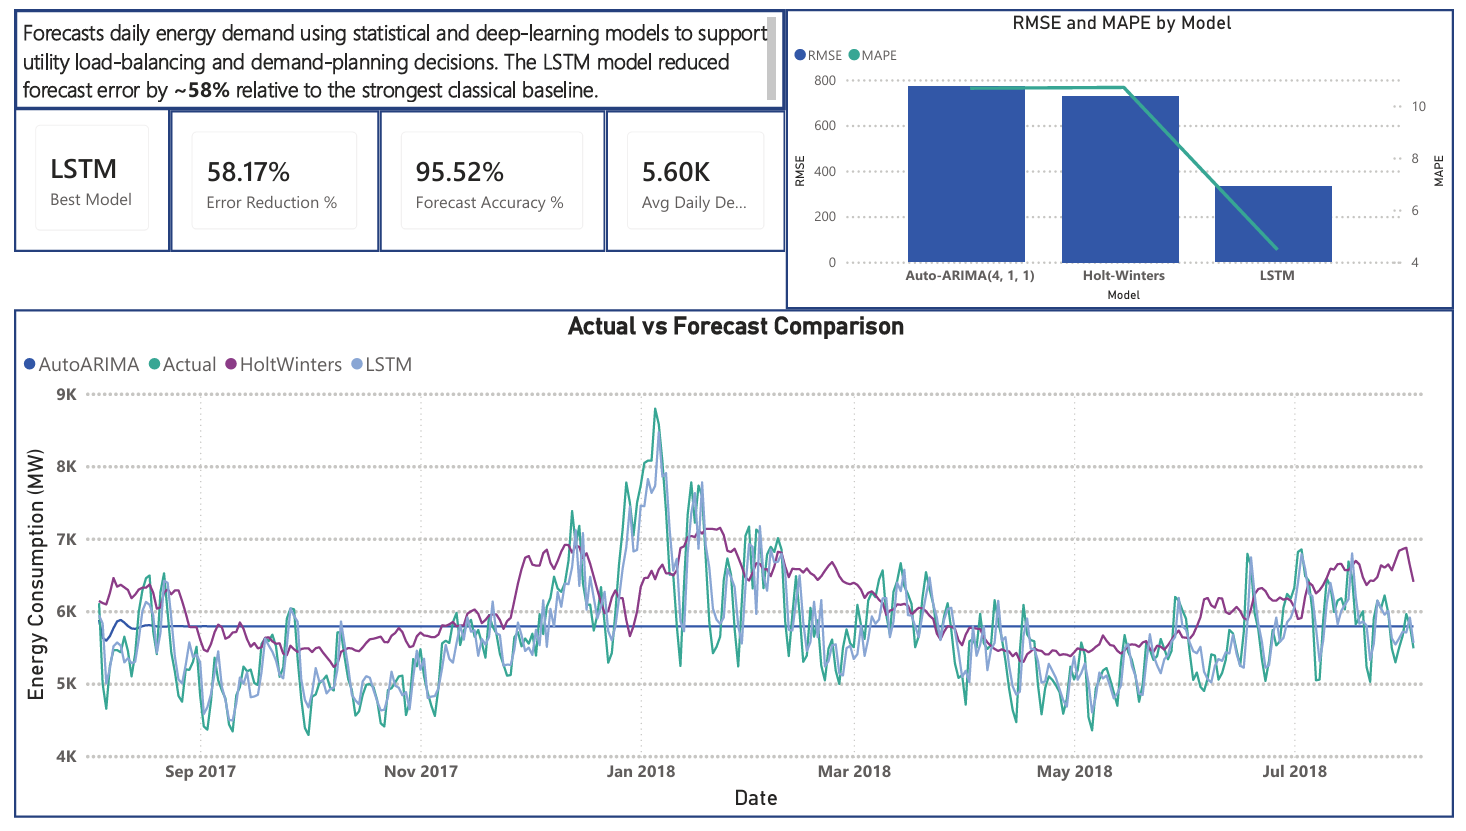

The page's visual inventory and layout, read from the dashboard file:
{"tool":"powerbi","page":{"name":"Executive Summary","canvas":[1280,720],"ordinal":0},"visuals":[{"type":"cardVisual","fields":{"Data":["_Measures.Best Model"]},"box":[0,84.4,139.4,132.1],"z":0},{"type":"cardVisual","fields":{"Data":["_Measures.Forecast Accuracy %"]},"box":[325.3,90.5,200.5,126],"z":1000},{"type":"cardVisual","fields":{"Data":["_Measures.Error Reduction %"]},"box":[139.4,90.5,185.9,126],"z":2000},{"type":"cardVisual","fields":{"Data":["_Measures.Avg Daily Demand (MW)"]},"box":[525.8,90.5,160.2,126],"z":3000},{"type":"lineChart","title":"Actual vs Forecast Comparison","fields":{"Category":["predictions.Date"],"Y":["Sum(predictions.AutoARIMA)","Sum(predictions.Actual)","Sum(predictions.HoltWinters)","Sum(predictions.LSTM)"]},"box":[0,266.6,1280.3,452.4],"z":4000},{"type":"lineClusteredColumnComboChart","fields":{"Category":["metrics.Model"],"Y":["Sum(metrics.RMSE)"],"Y2":["Sum(metrics.MAPE)"]},"box":[686,0,594.3,266.6],"z":5002},{"type":"textbox","box":[0,0,685.9,90.1],"z":5003}]}

Visuals, with their boxes in screenshot pixels (x1, y1, x2, y2), scaled from the page's 1280x720 canvas onto the 1466x831 screenshot:
cardVisual - _Measures.Best Model: 0 97 160 250
cardVisual - _Measures.Forecast Accuracy %: 373 104 602 250
cardVisual - _Measures.Error Reduction %: 160 104 373 250
cardVisual - _Measures.Avg Daily Demand (MW): 602 104 786 250
"Actual vs Forecast Comparison" lineChart: 0 308 1465 830
lineClusteredColumnComboChart - metrics.Model x Sum(metrics.RMSE): 786 0 1465 308
textbox: 0 0 786 104
